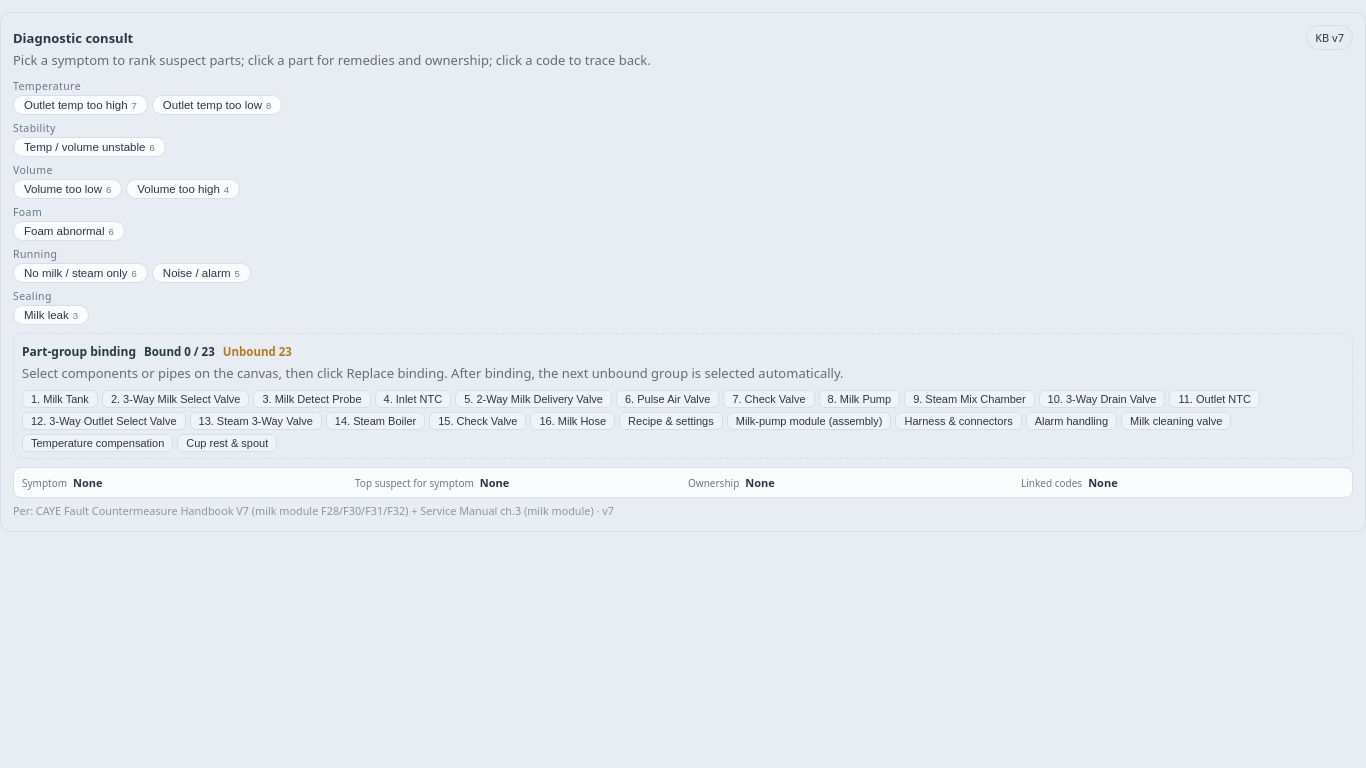
Test case: KbConsultPanel › 症状 chips 按分组渲染；点症状出现嫌疑分档并按 pr 排序
Click the button "No milk / steam only6".
click(80, 273)  # box top-left (13, 263), bottom-right (148, 283)
(page scrolled)
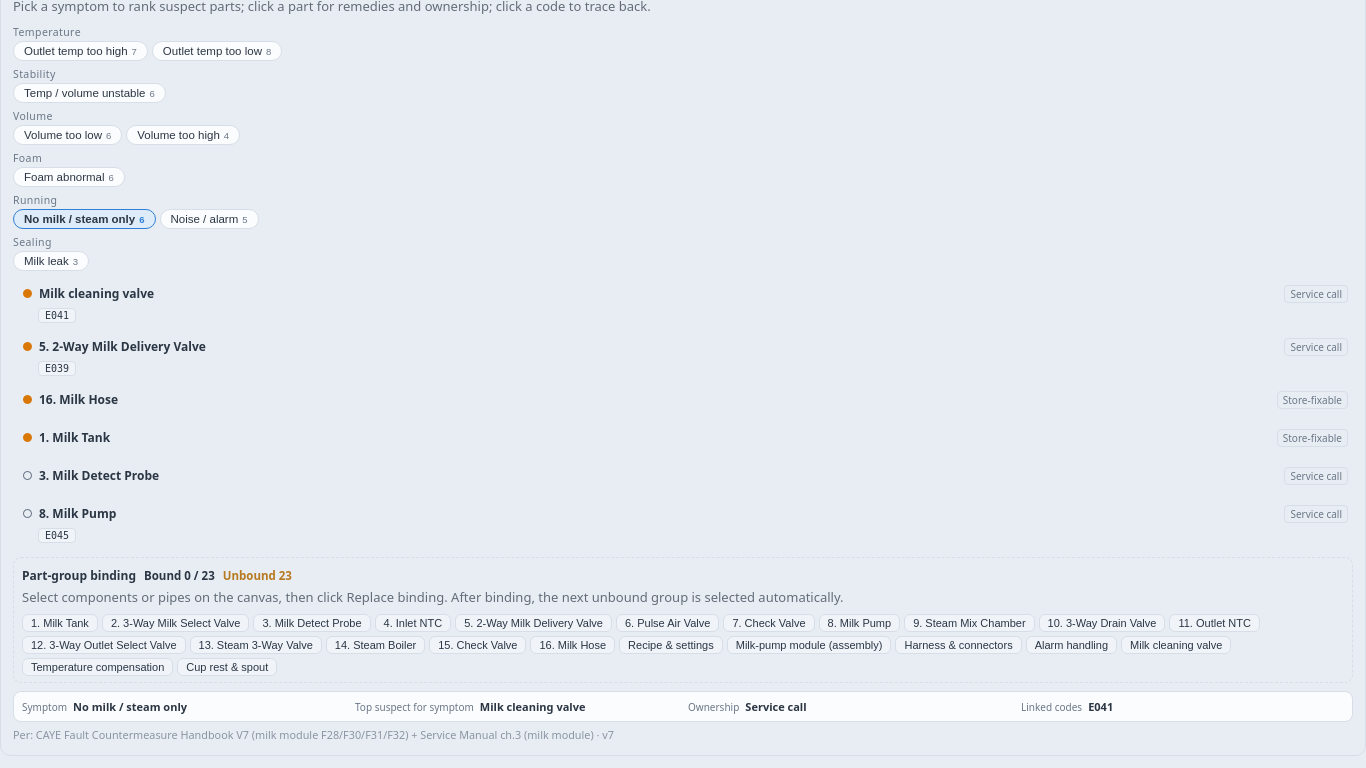
Expected: the message with test id "kb-status" shows "No milk", top-left (73, 699), bottom-right (187, 714)
